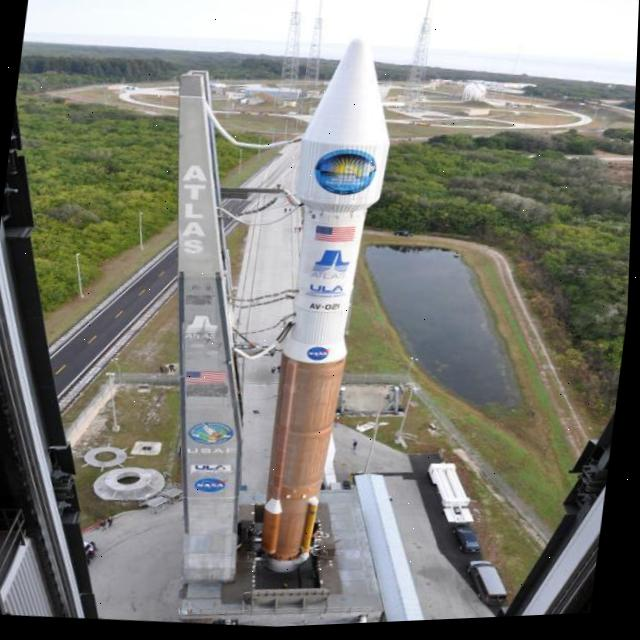missile: (238, 26, 404, 589)
